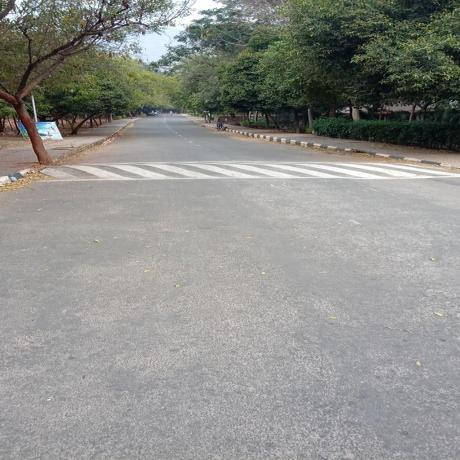Speed Bump: (26, 162, 459, 179)
